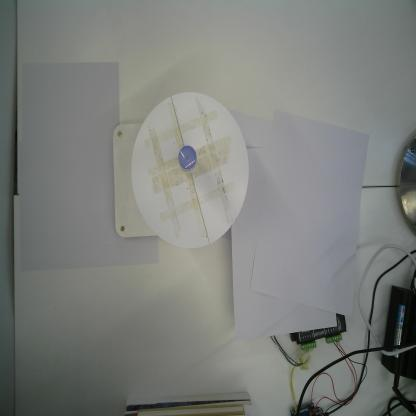Stationery: (177, 142, 198, 173)
